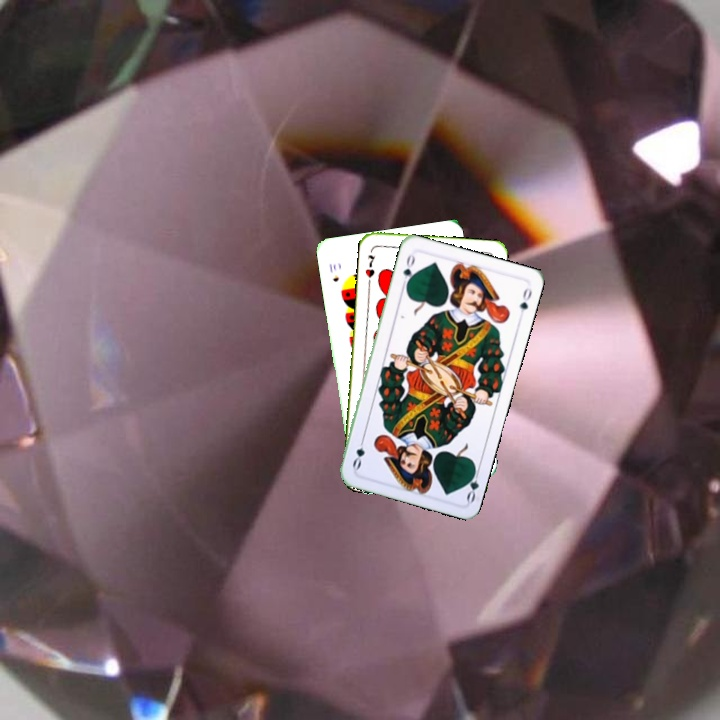GO: (461, 463, 483, 505), (398, 251, 418, 290)
H7: (361, 251, 378, 280)
S10: (325, 260, 341, 284)
